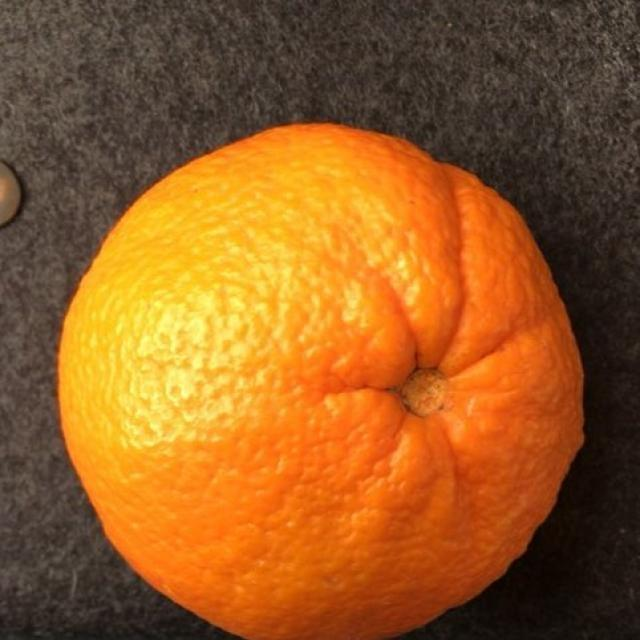orange: (64, 124, 581, 635)
